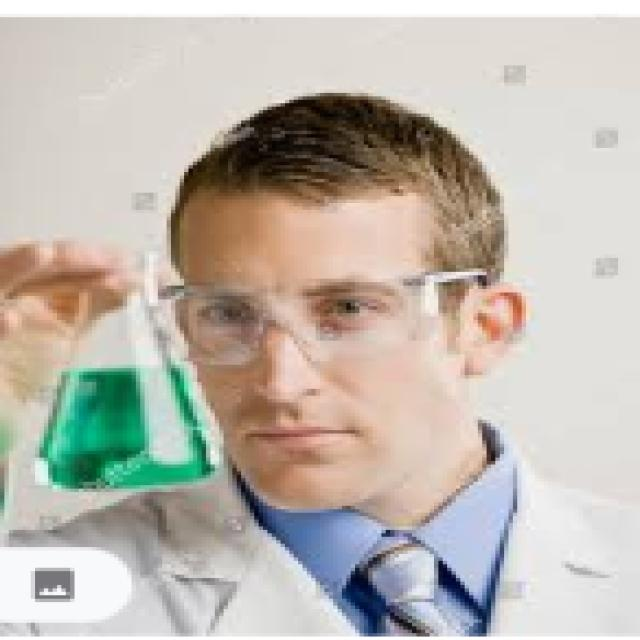glasses: (157, 268, 454, 363)
